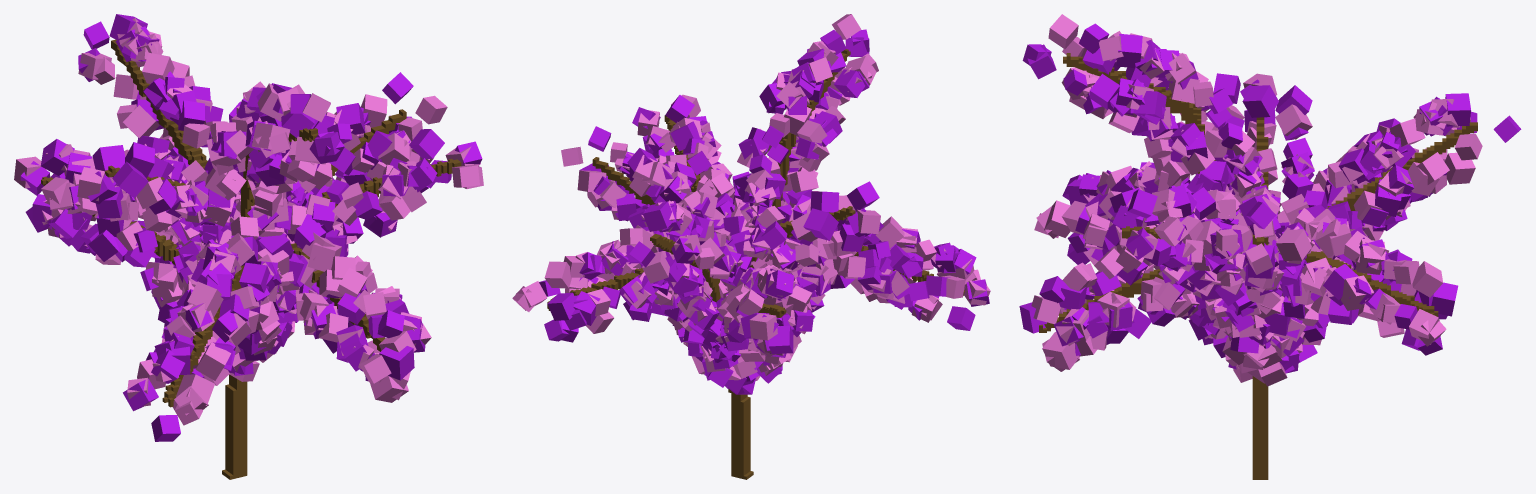
The model's file is воксель сирень.dae.
3 views of the same model, side by side, from view 1: azimuth 30°, elevation 25°; view 2: azimuth 150°, elevation 25°; view 3: azimuth 270°, elevation 25° (orthographic). The views are drawn at different scales.
Parts seen in each view (by area): view 1: Плоскость.001; view 2: Плоскость.001; view 3: Плоскость.001.
Boxes of the visible parts, <box> form: Плоскость.001: <box>14,14,483,479</box>; Плоскость.001: <box>512,14,990,479</box>; Плоскость.001: <box>1019,14,1521,479</box>.
Bounding box in the file's own units: 2.12 × 2.32 × 2.3.
